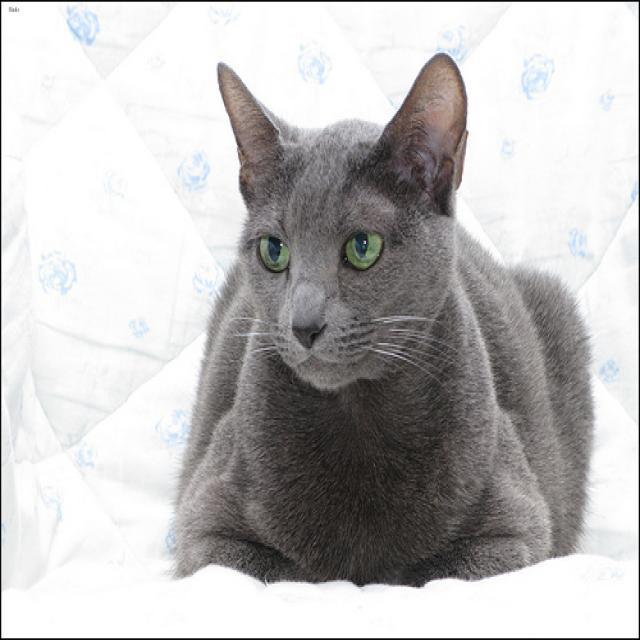Russian_Blue: (210, 50, 477, 397)
